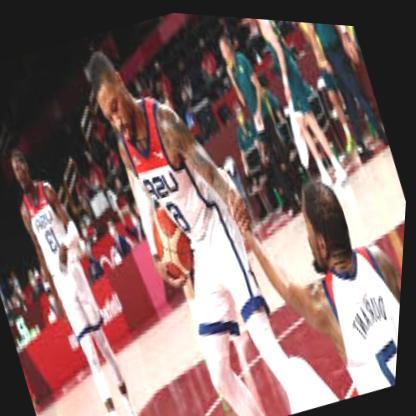basketball: (143, 194, 209, 286)
